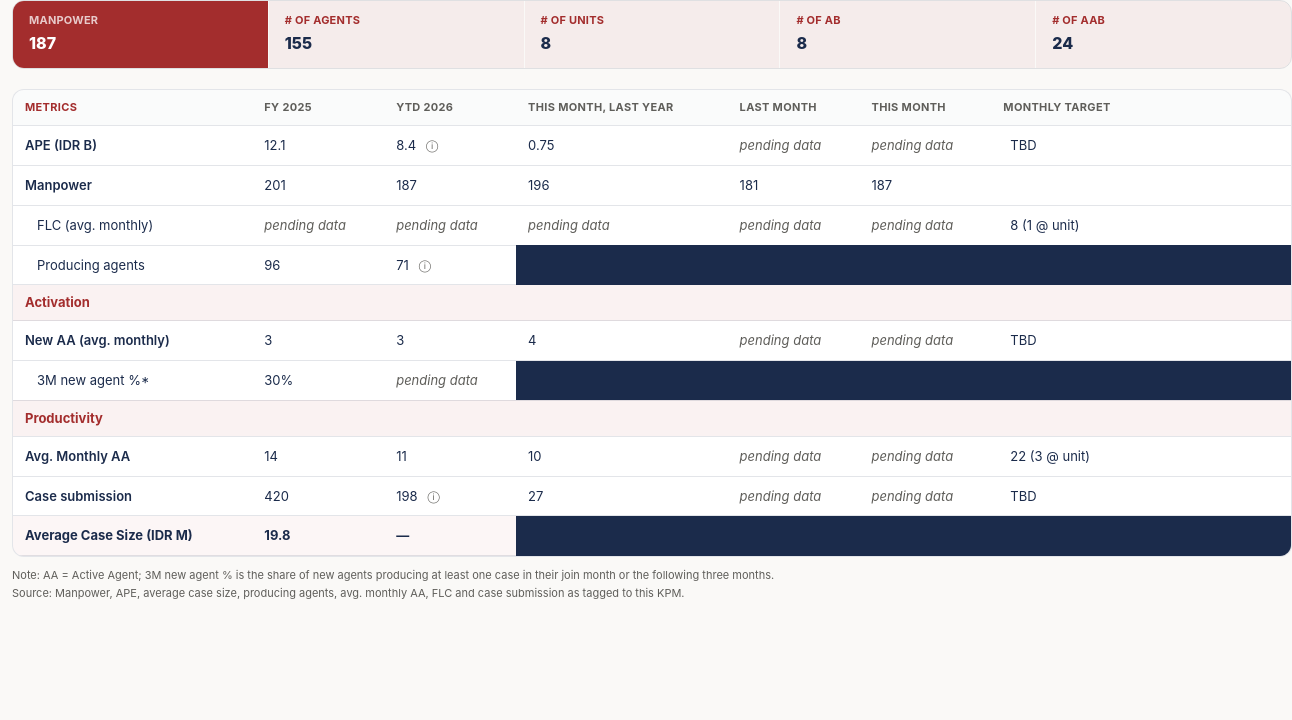
it: P18.1-T2 AC-7 saving a target › any other failure keeps what was typed, says so, and leaving the cell again sends it again
The width and height of the screenshot is (1292, 720).
Replace the text in the field named "Monthly Target, FLC (avg. monthly)" with "9" at {"x": 1141, "y": 225}, box [1003,213,1279,237]
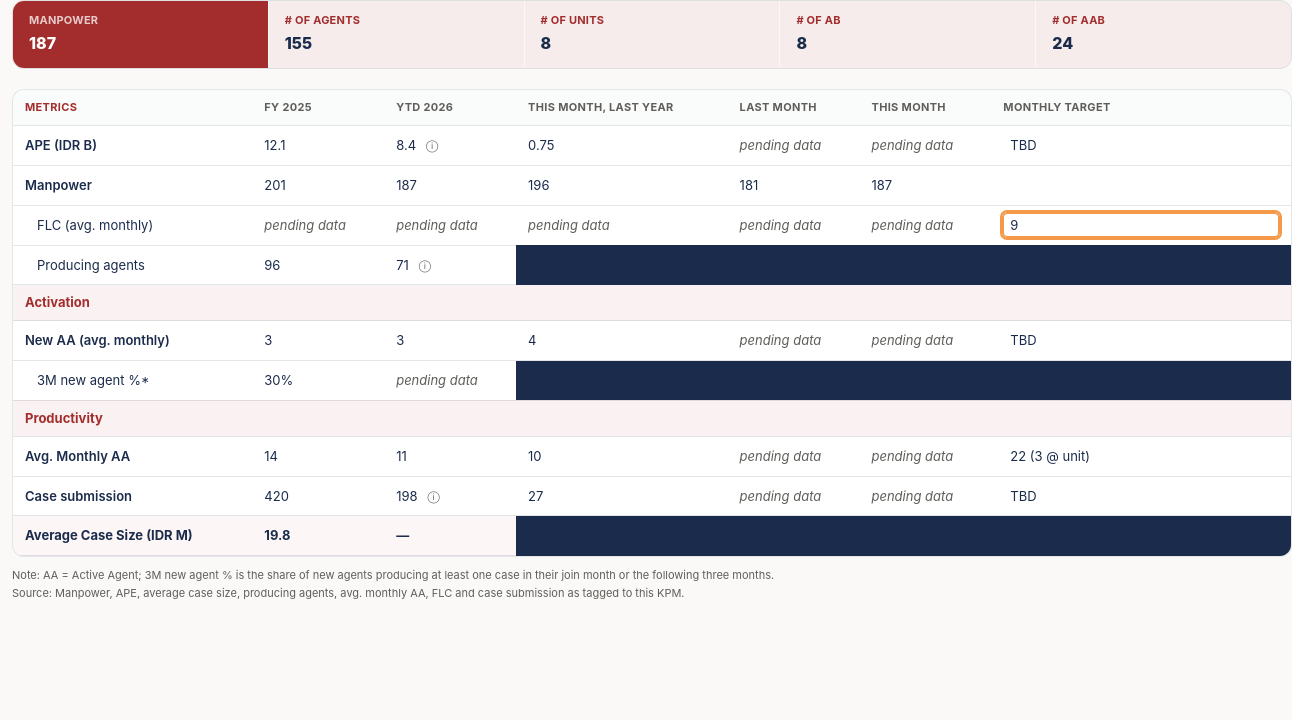
Press Tab
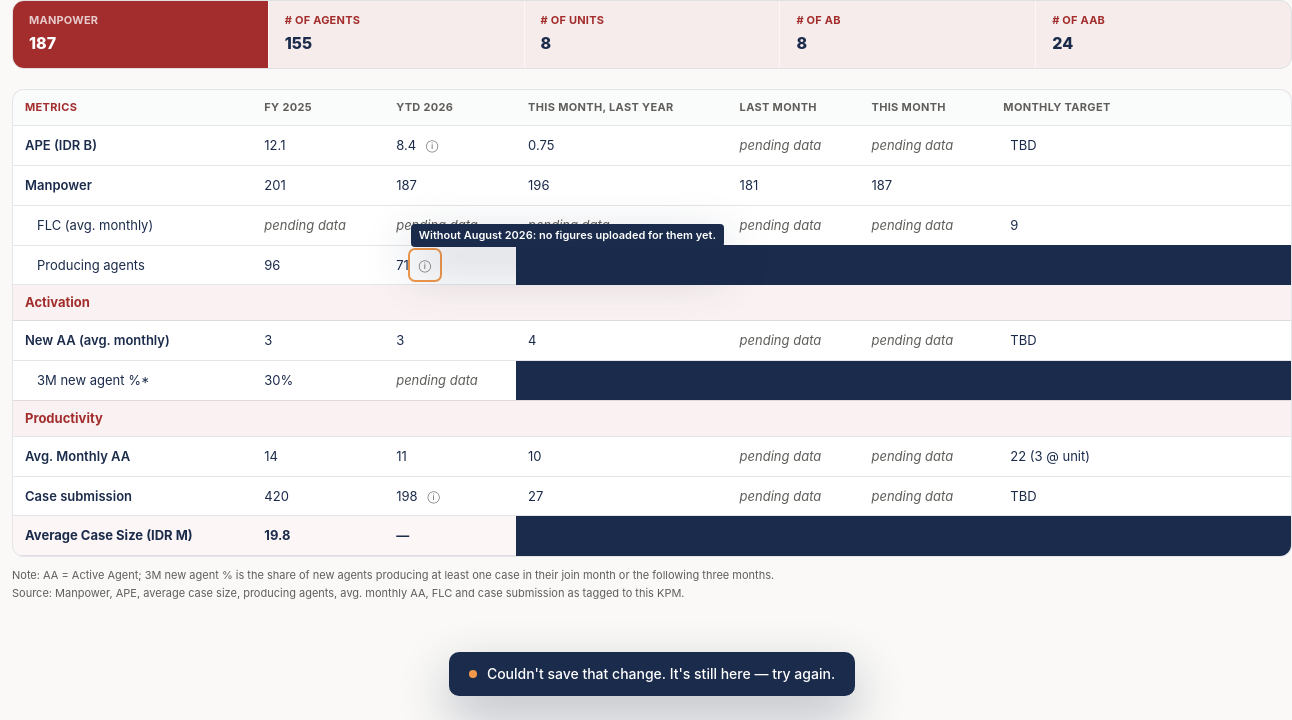
Expected: the text "Couldn't save that change. It's still here — try again." is shown, [449,652,855,696]
Click the field named "Monthly Target, FLC (avg. monthly)" at {"x": 1141, "y": 225}, box [1003,213,1279,237]
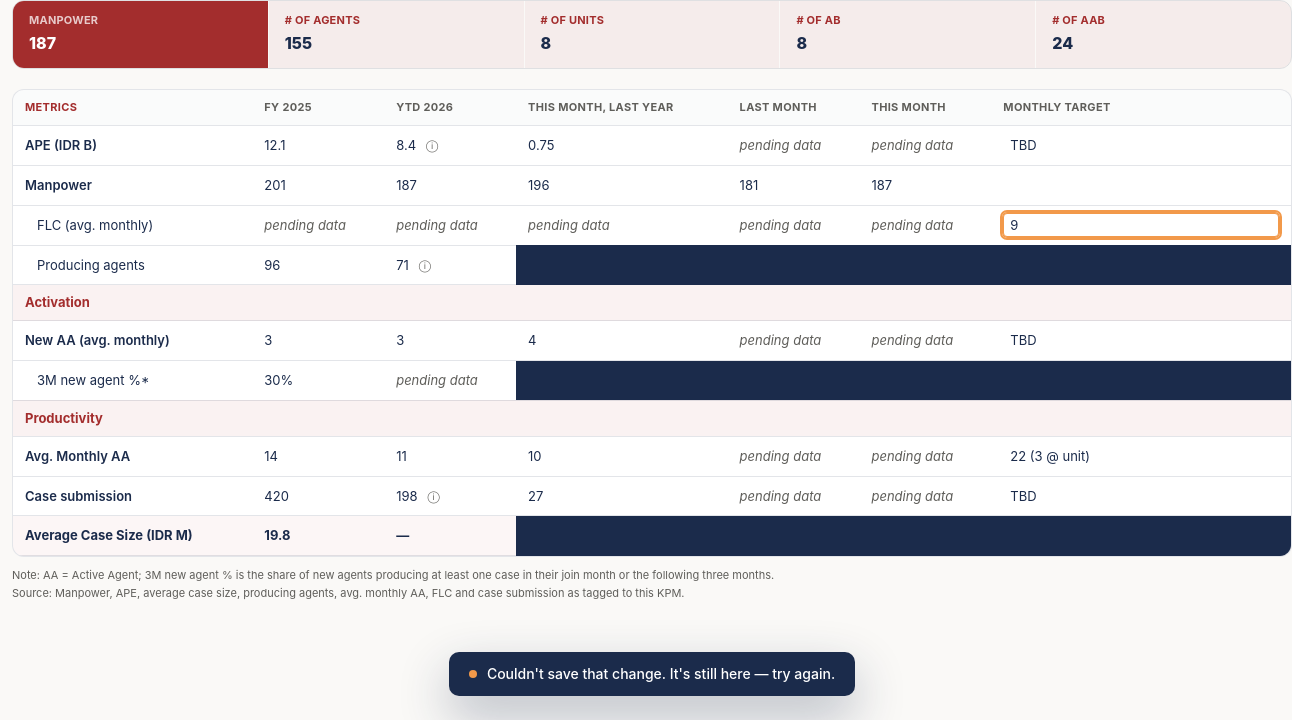
Press Tab
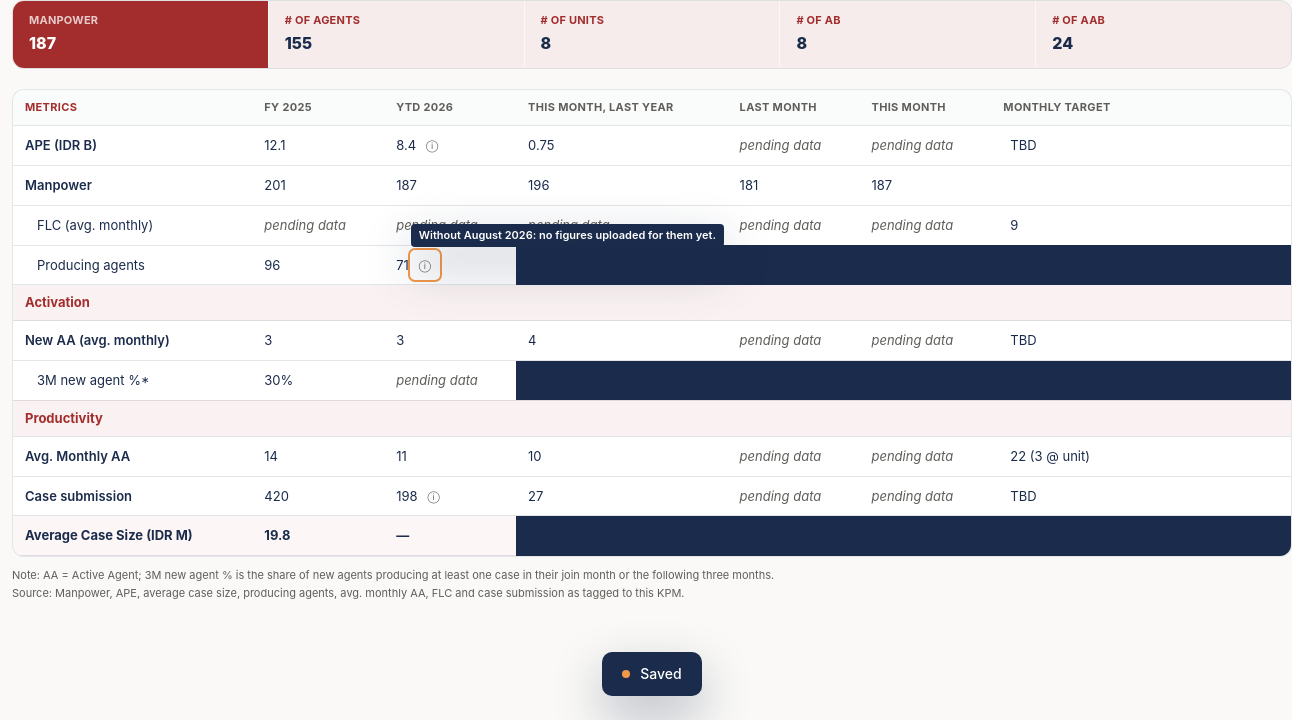
Expected: the text "Saved" is shown, [602,652,702,696]
